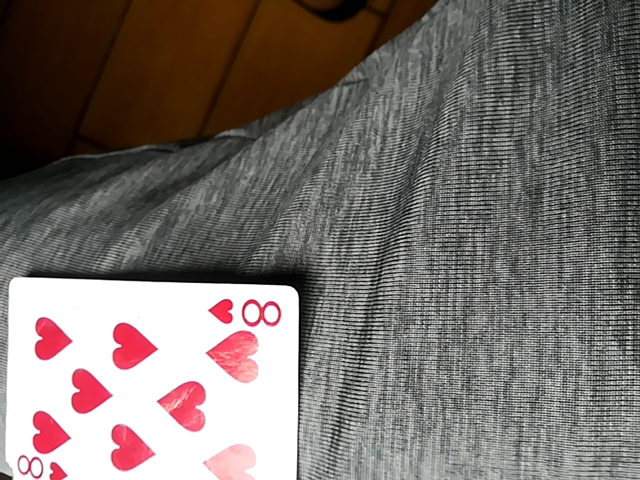hx 8: (3, 275, 300, 479)
